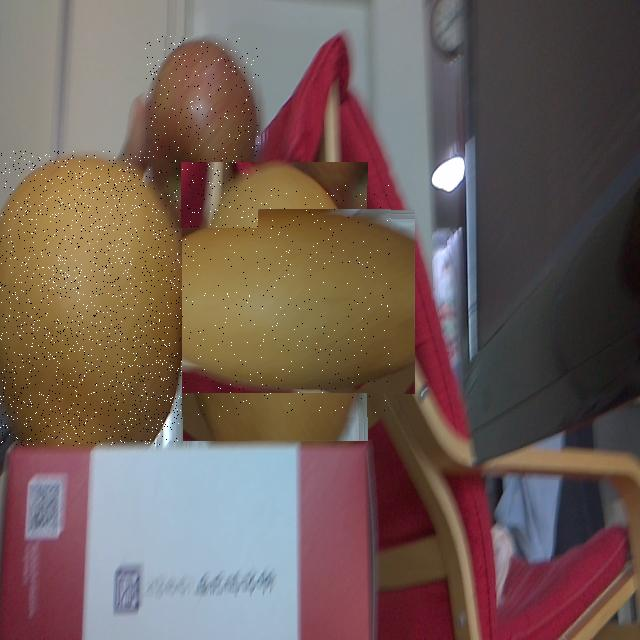apple: (146, 36, 260, 228)
pear: (160, 185, 392, 418), (0, 151, 182, 446)
